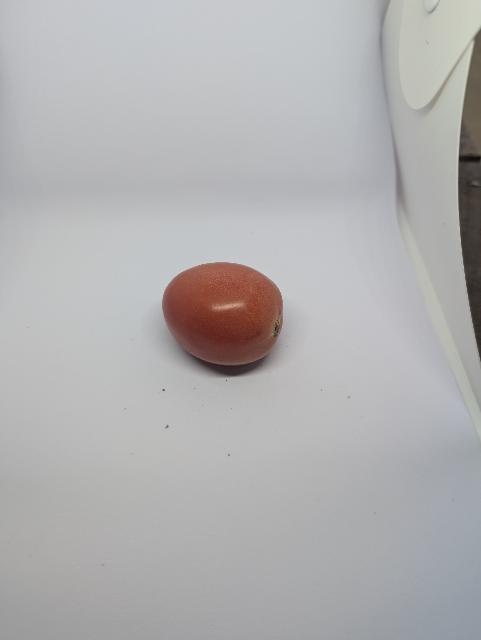red: (160, 256, 291, 377)
